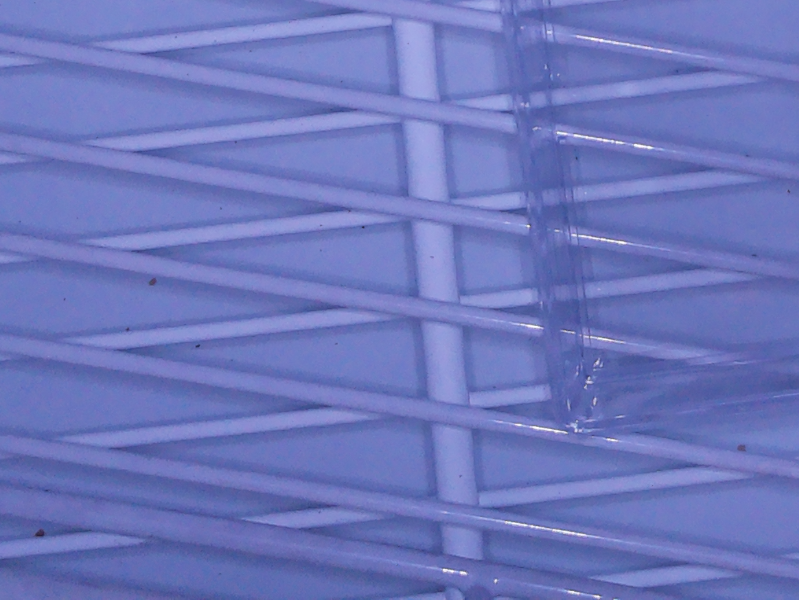plate: (497, 1, 799, 442)
